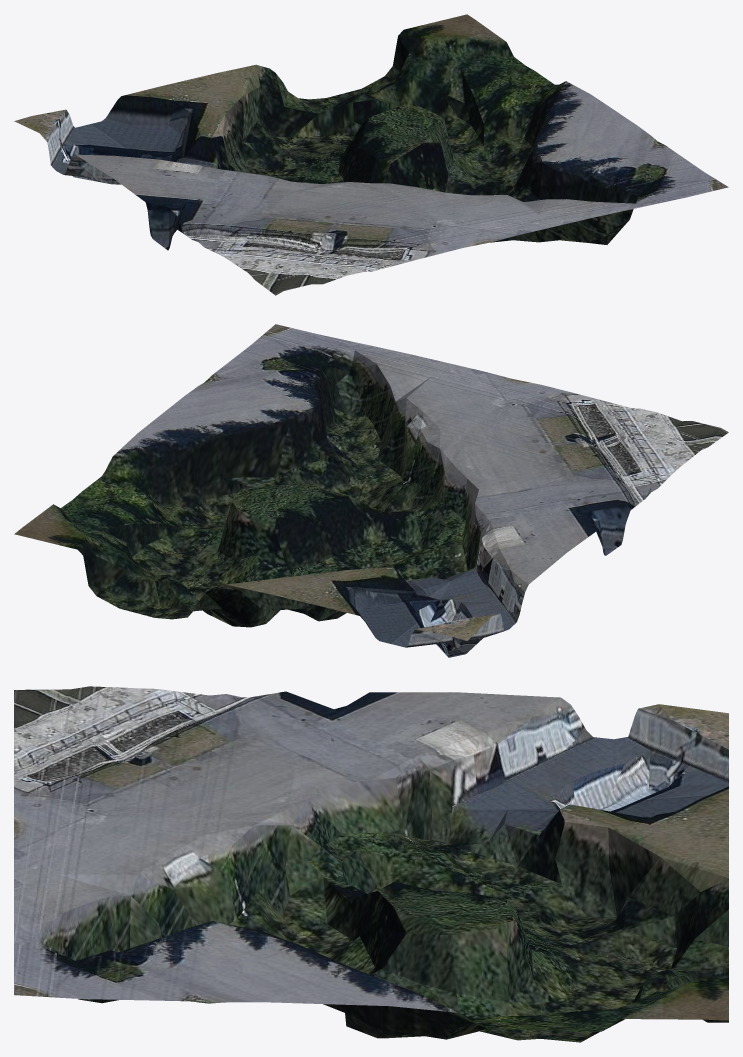
File: map_15_8181_13778.dae
3 views of the same model, one above another, from view 1: azimuth 30°, elevation 25°; view 2: azimuth 150°, elevation 25°; view 3: azimuth 270°, elevation 25° (orthographic). The views are drawn at different scales.
Visible parts, largest first — view 1: Ter0; view 2: Ter0; view 3: Ter0.
Part boxes in pixels (<box>): Ter0: <box>14,14,728,295</box>; Ter0: <box>14,324,728,657</box>; Ter0: <box>14,686,728,1042</box>.
Bounding box in the file's own units: 63.87 × 63.88 × 11.52.
Materials: 3 (3 with a texture image).
